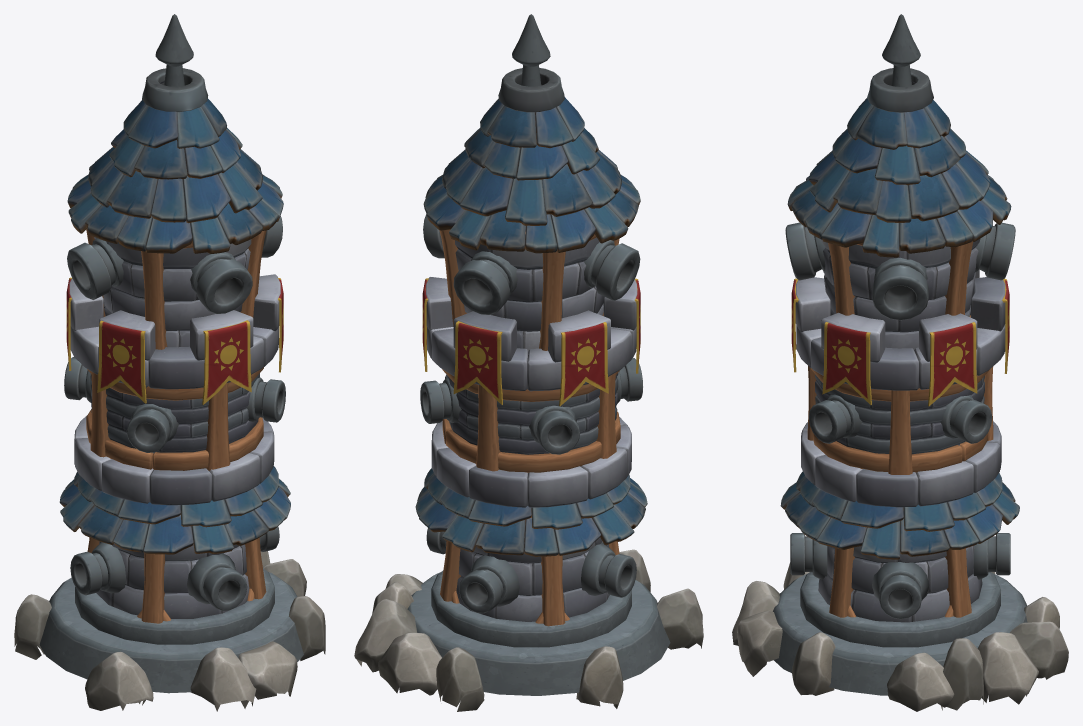
File: SM_TowerDefense_Generic_Lv5.fbx
The picture shows the model from 3 angles, left to right: view 1: azimuth 30°, elevation 25°; view 2: azimuth 150°, elevation 25°; view 3: azimuth 270°, elevation 25°; orthographic projection.
Visible parts, largest first — view 1: SM_TowerDefense_Generic_Lv5; view 2: SM_TowerDefense_Generic_Lv5; view 3: SM_TowerDefense_Generic_Lv5.
Boxes of the visible parts, box(x1,y1,x2,y2) form: SM_TowerDefense_Generic_Lv5: box(14, 14, 325, 711); SM_TowerDefense_Generic_Lv5: box(354, 14, 703, 711); SM_TowerDefense_Generic_Lv5: box(732, 14, 1068, 711).
Bounding box in the file's own units: 969 × 2204 × 1045.
